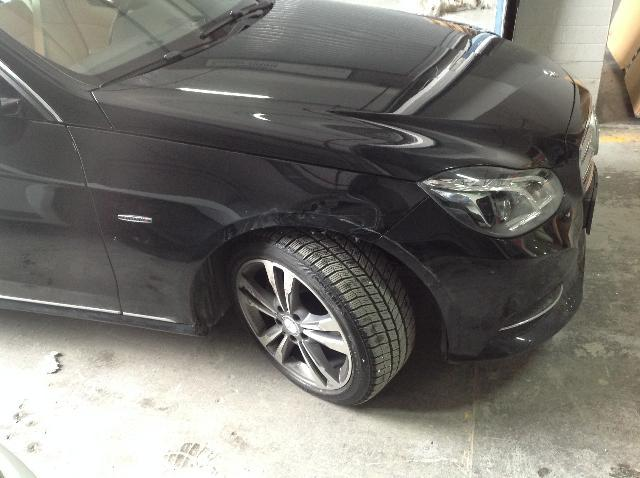dent: (276, 185, 391, 242)
scratch: (337, 215, 442, 284)
